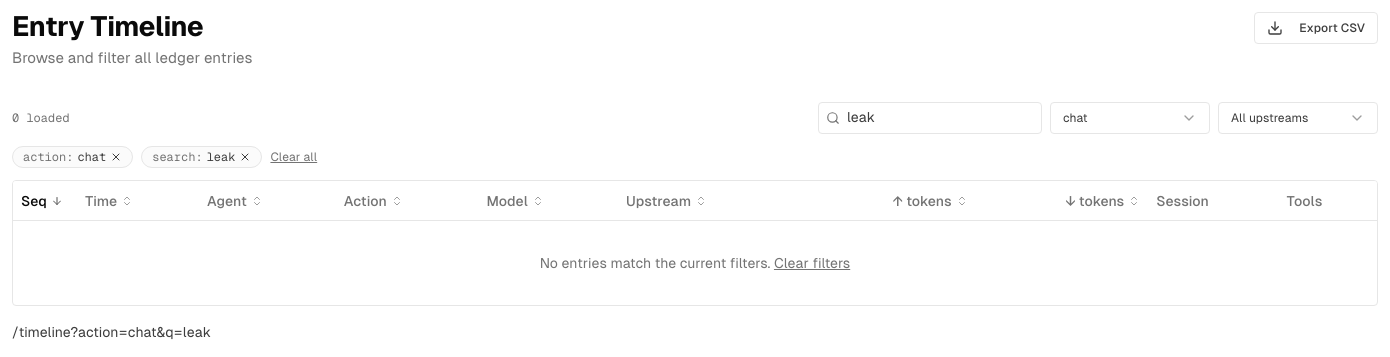
Test: TimelinePage — filters › clears every filter at once
Click the button "Clear all" at (294, 157), box 270,149 -> 317,165
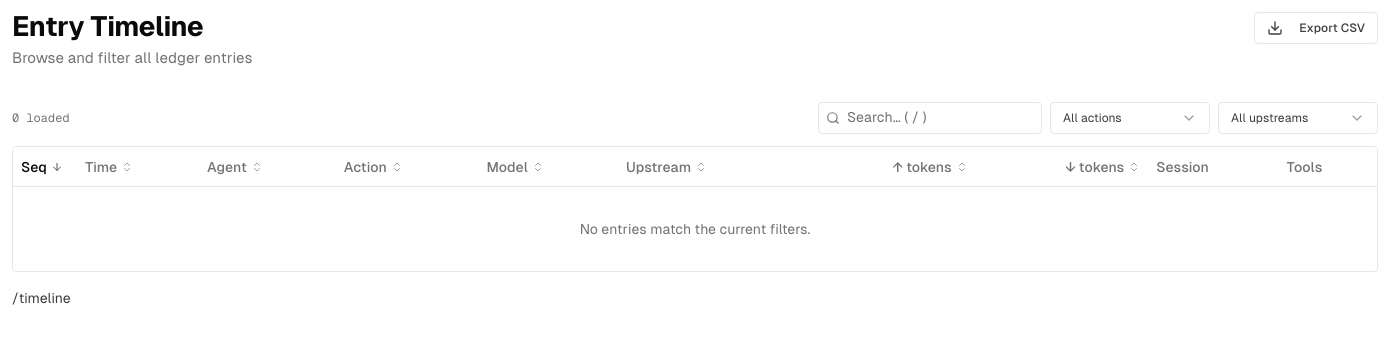
Expected: the text with test id "loc" reads "/timeline", 12,290 -> 71,306
Expected: the field with placeholder "Search… ( / )" is empty, 818,102 -> 1042,134
